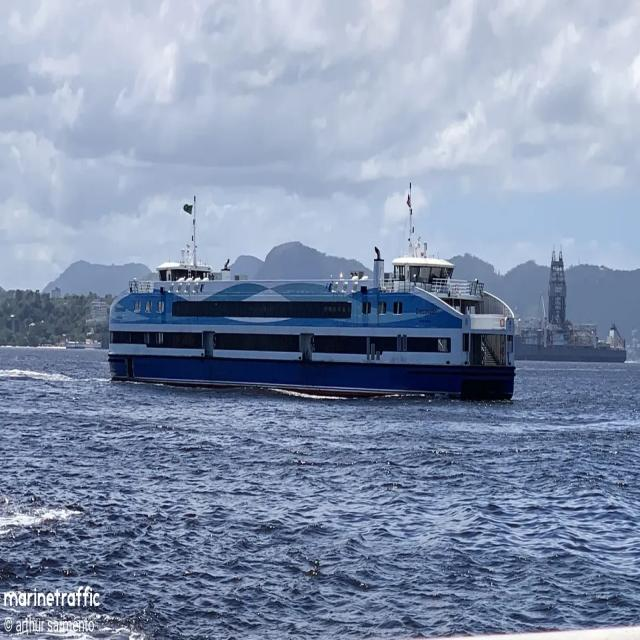Passenger: (108, 183, 515, 399)
